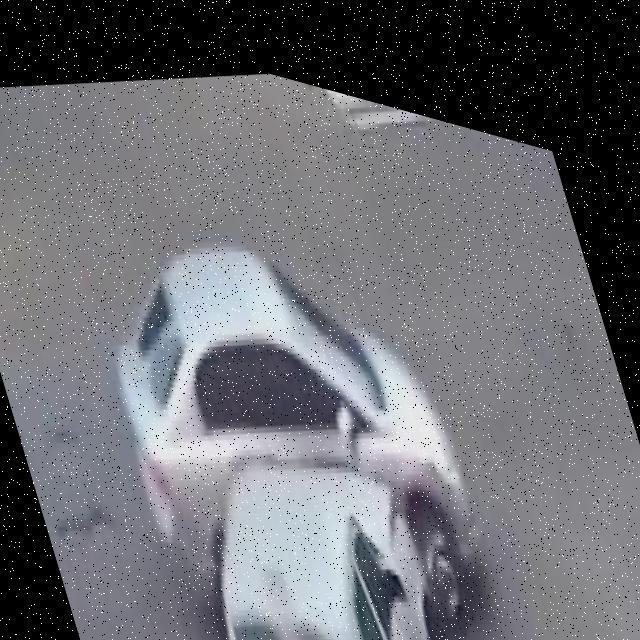Car Accident Detector - v4 Generation1 Exported: (73, 139, 547, 640)
